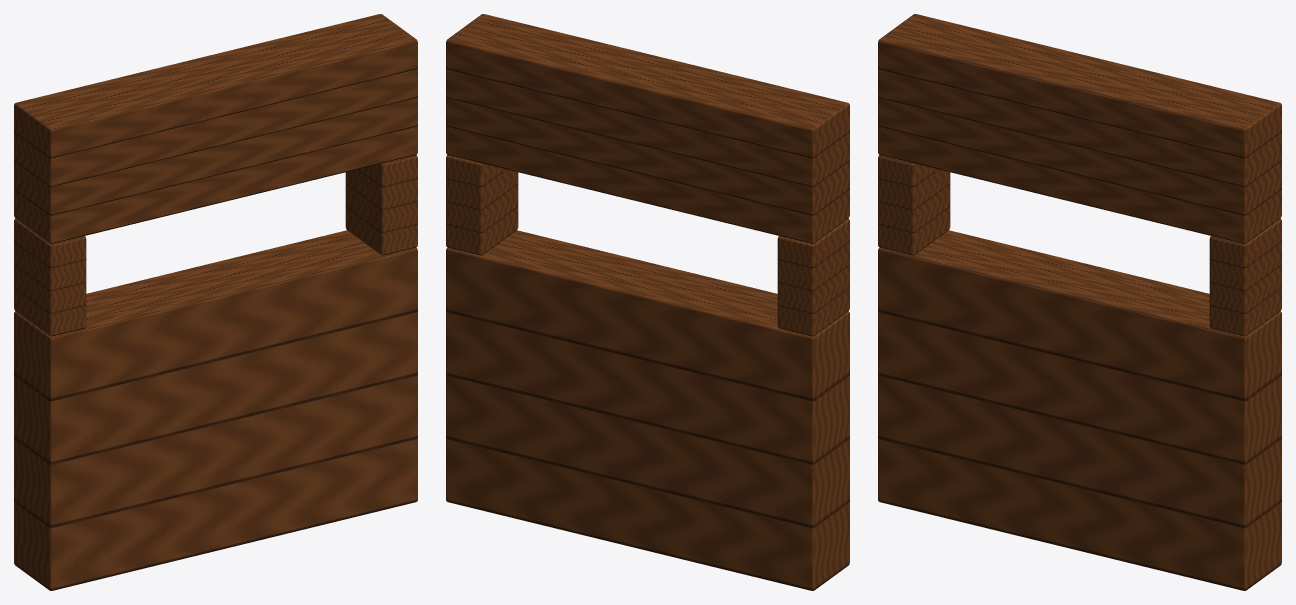
File: fortified-compound-expansion-observation-slit-wall-d7d41f5b__27086.glb
3 renders of one model, left to right at view 1: azimuth 30°, elevation 25°; view 2: azimuth 150°, elevation 25°; view 3: azimuth 330°, elevation 25°, orthographic.
Parts seen in each view (by area): view 1: observation-slit-wall; view 2: observation-slit-wall; view 3: observation-slit-wall.
Part boxes in pixels (x1=…): observation-slit-wall: x1=14, y1=14, x2=417, y2=590; observation-slit-wall: x1=446, y1=14, x2=849, y2=590; observation-slit-wall: x1=878, y1=14, x2=1281, y2=590.
Bounding box in the file's own units: 2 × 2.4 × 0.3501.
1 material, 1 textured.
